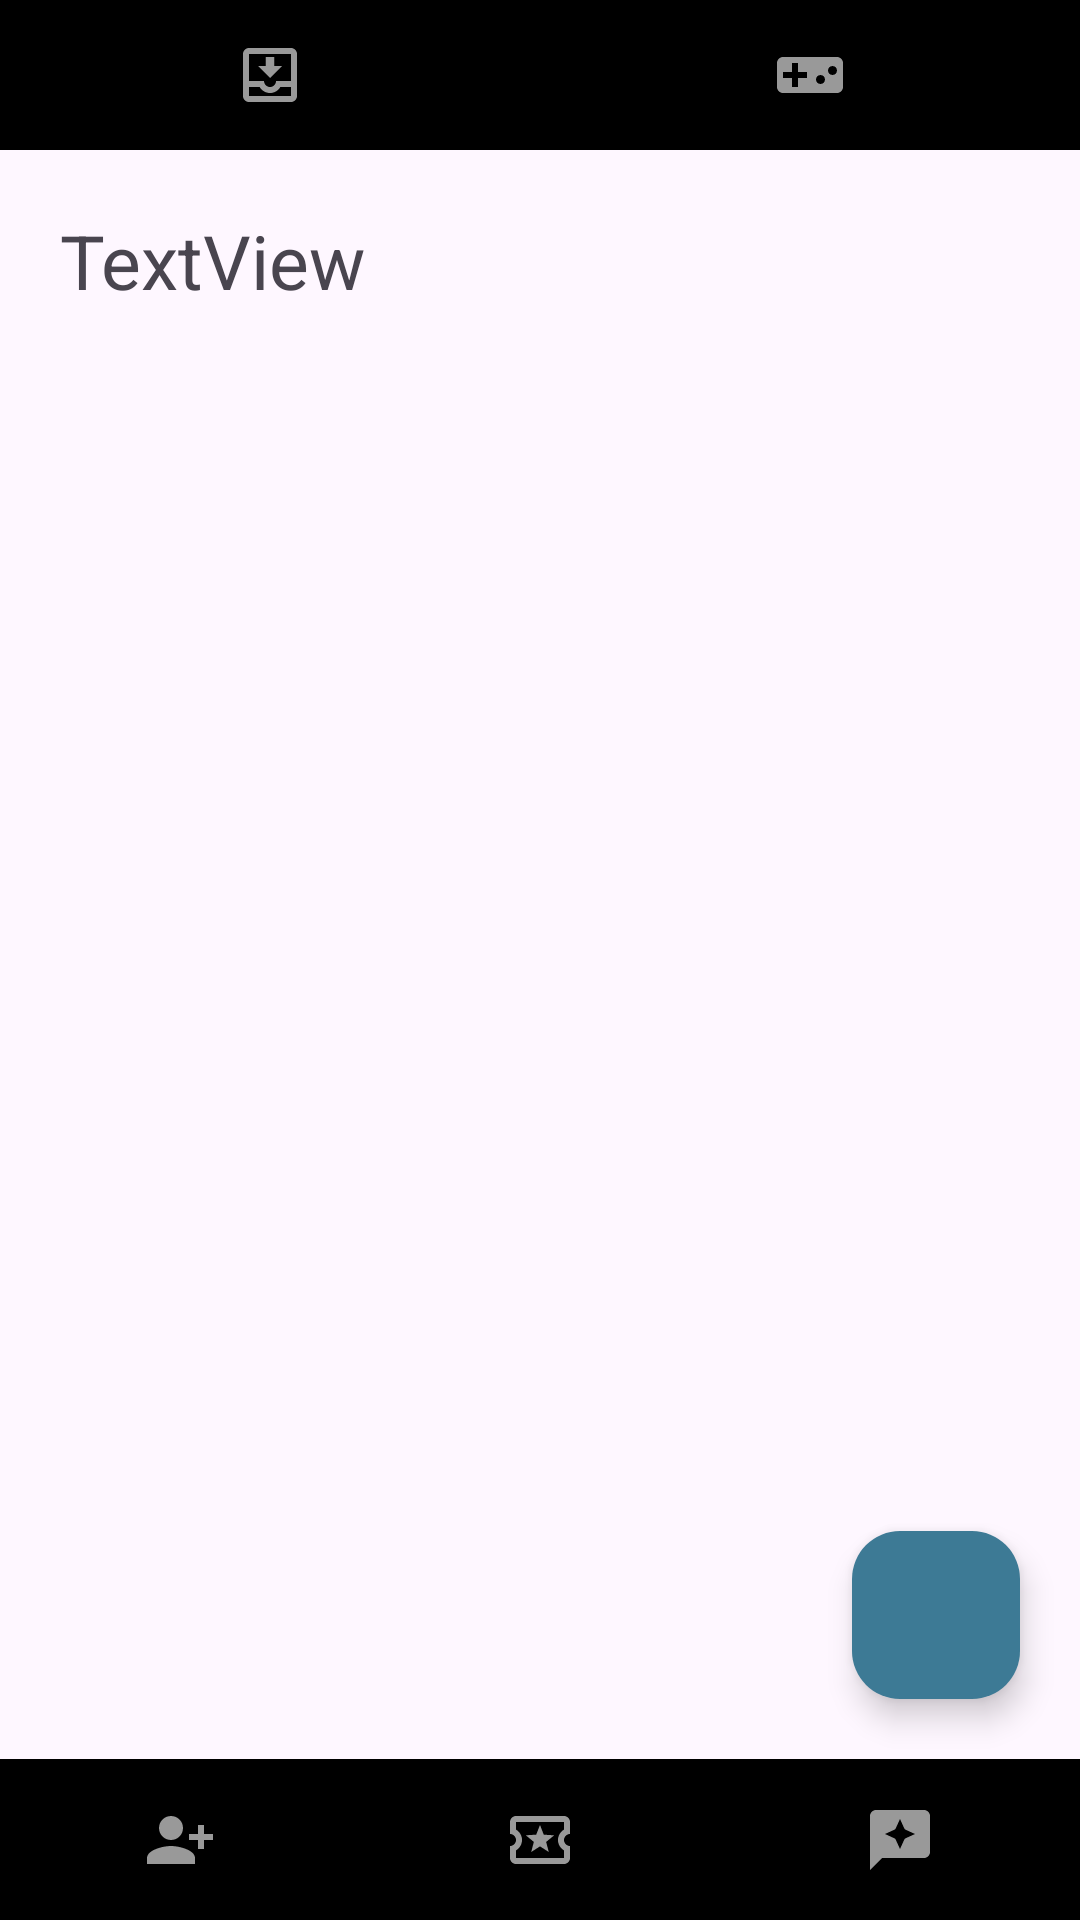

Icons on this 1080w x 1920h Android screen, each with its box as {"left": x1, "top": y1, "right": x2, "bottom": y2}:
local activity: {"left": 510, "top": 1816, "right": 570, "bottom": 1864}
person add: {"left": 147, "top": 1816, "right": 213, "bottom": 1864}
reviews: {"left": 870, "top": 1810, "right": 930, "bottom": 1870}
